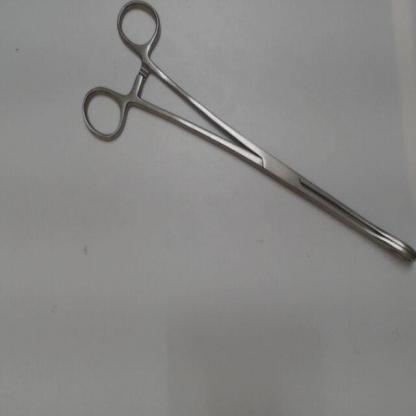Sponge Forceps: (75, 1, 416, 268)
